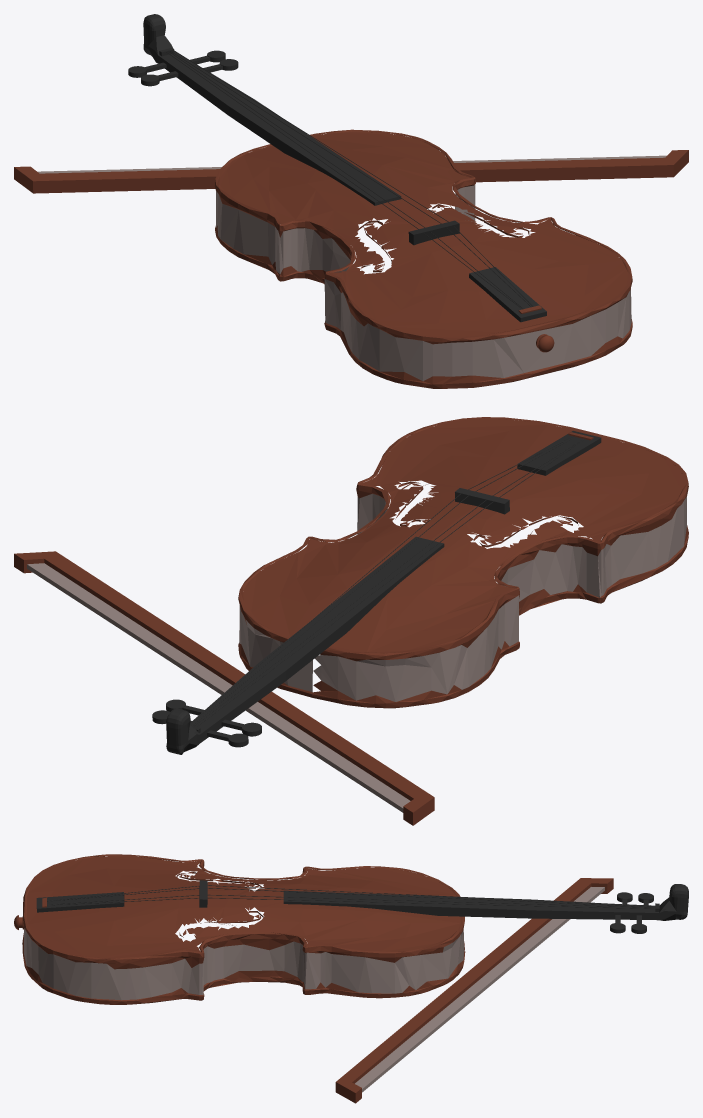
3 views of the same model, one above another, from view 1: azimuth 30°, elevation 25°; view 2: azimuth 150°, elevation 25°; view 3: azimuth 270°, elevation 25° (orthographic). The views are drawn at different scales.
Parts seen in each view (by area): view 1: Object004, Box017, Box019, Line008, Box014, Box022; view 2: Object004, Box017, Box019, Line008, Box014, Box022; view 3: Object004, Box017, Box019, Line008, Box014.
Boxes of the visible parts, bbox=[...] form: Object004: bbox=[214, 129, 632, 388]; Box017: bbox=[14, 150, 688, 193]; Box019: bbox=[143, 14, 401, 205]; Line008: bbox=[166, 50, 533, 309]; Box014: bbox=[469, 267, 546, 322]; Box022: bbox=[408, 220, 459, 245]; Object004: bbox=[238, 417, 688, 708]; Box017: bbox=[14, 551, 434, 825]; Box019: bbox=[166, 536, 444, 754]; Line008: bbox=[190, 436, 584, 726]; Box014: bbox=[517, 431, 601, 475]; Box022: bbox=[455, 488, 509, 514]; Object004: bbox=[22, 854, 465, 1004]; Box017: bbox=[335, 878, 613, 1103]; Box019: bbox=[283, 884, 688, 920]; Line008: bbox=[47, 885, 655, 908]; Box014: bbox=[36, 892, 124, 912].
Bounding box in the file's own units: 591188 × 98574 × 780572.
